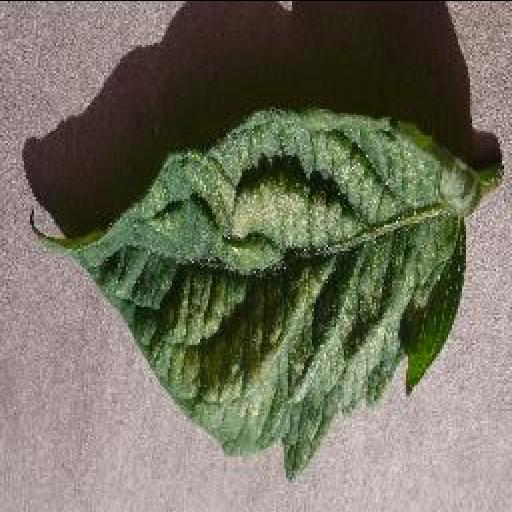disease_tomato: (28, 106, 478, 478)
